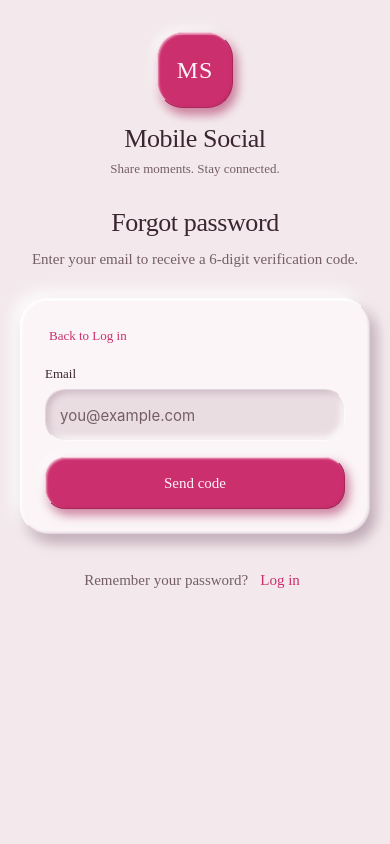
Test: ForgotPasswordScreen (Phase 2) › shows validation error when email format is invalid
Type "invalid-email" into the field with placeholder "you@example.com" at [195, 415], box [46,390,344,440]
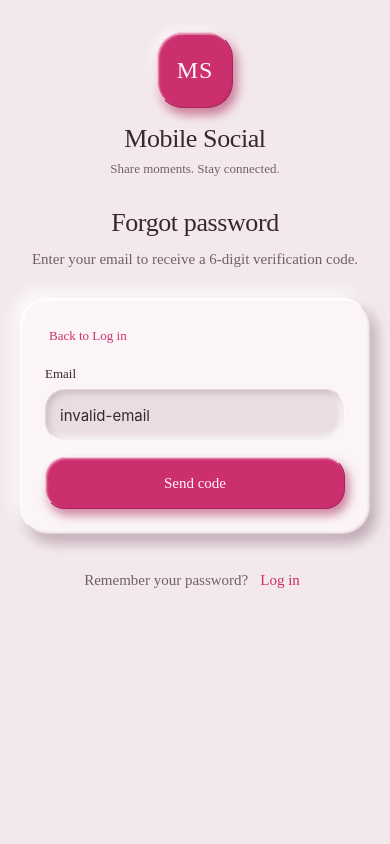
Click the button with aria-label "Send reset code" at [195, 483], box [45,457,345,509]
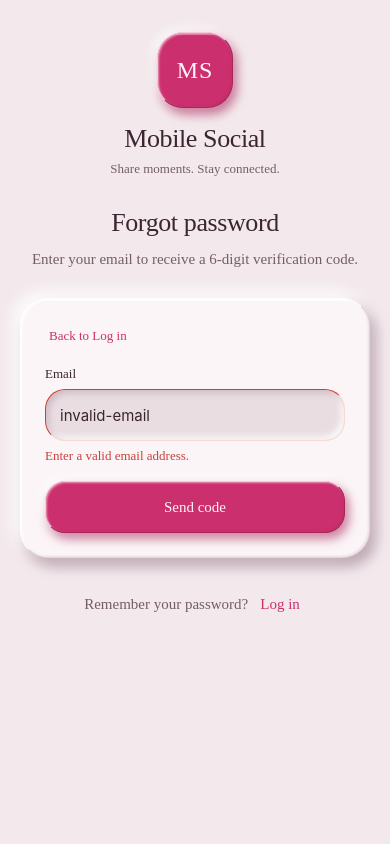
Now the text "Enter a valid email address." is shown, box [45,448,189,463]
